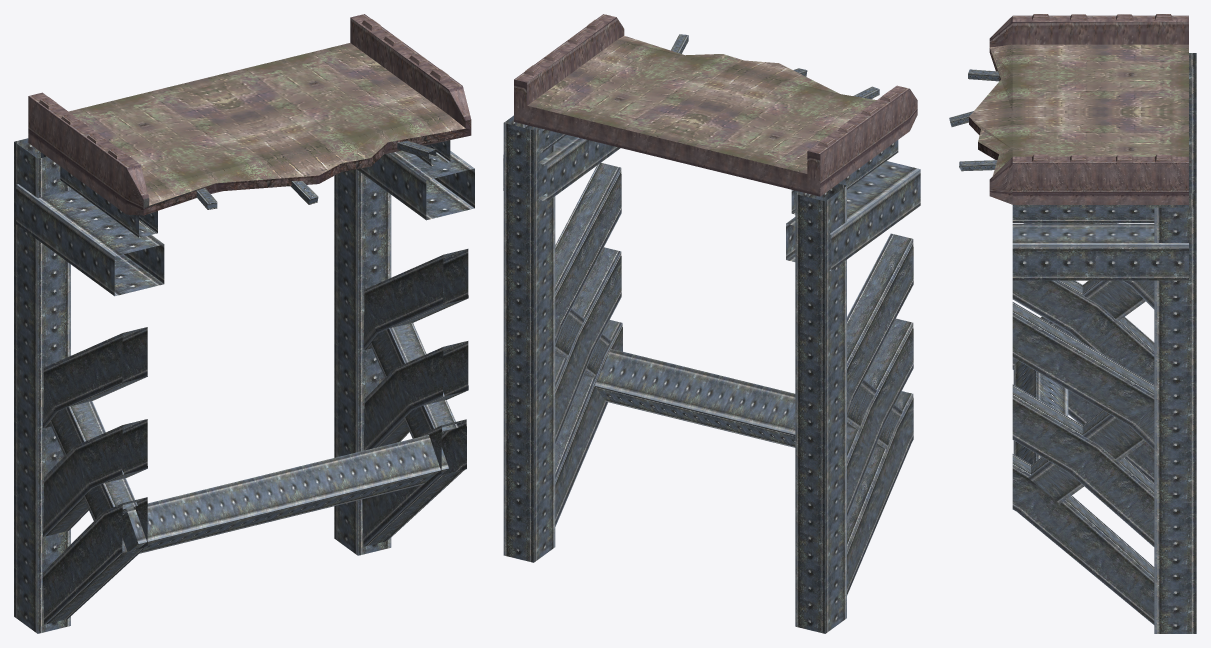
Rendered from C4SMCUSTBDG_START.obj.
3 views of the same model, side by side, from view 1: azimuth 30°, elevation 25°; view 2: azimuth 150°, elevation 25°; view 3: azimuth 270°, elevation 25° (orthographic). The views are drawn at different scales.
Visible parts, largest first — view 1: Node 0, Node 18, Node 11, Node 17, Node 14, Node 16, Node 15, Node 12, Node 13, Node 19, Node 8, Node 7; view 2: Node 0, Node 18, Node 12, Node 15, Node 11, Node 14, Node 16, Node 17, Node 19, Node 13, Node 7, Node 8; view 3: Node 0, Node 13, Node 16, Node 15, Node 19, Node 14, Node 7, Node 18, Node 8, Node 17, Node 9, Node 12 (+1 smaller).
Boxes of the visible parts, x1,y1,x2,y2 form: Node 0: [14, 14, 471, 633]; Node 18: [122, 435, 448, 553]; Node 11: [16, 184, 164, 296]; Node 17: [43, 497, 147, 624]; Node 14: [43, 419, 147, 536]; Node 16: [364, 341, 468, 450]; Node 15: [363, 249, 468, 349]; Node 12: [43, 327, 147, 428]; Node 13: [357, 150, 474, 220]; Node 19: [362, 419, 466, 546]; Node 8: [49, 401, 137, 520]; Node 7: [370, 323, 458, 438]; Node 0: [503, 14, 917, 633]; Node 18: [594, 349, 795, 447]; Node 12: [847, 233, 913, 416]; Node 15: [555, 163, 621, 344]; Node 11: [786, 161, 920, 270]; Node 14: [847, 318, 913, 516]; Node 16: [555, 247, 621, 444]; Node 17: [847, 391, 913, 595]; Node 19: [555, 320, 622, 526]; Node 13: [503, 135, 620, 201]; Node 7: [555, 308, 610, 377]; Node 8: [847, 380, 902, 449]; Node 0: [949, 15, 1196, 633]; Node 13: [1012, 223, 1188, 280]; Node 16: [1012, 384, 1154, 546]; Node 15: [1012, 302, 1154, 449]; Node 19: [1012, 454, 1154, 624]; Node 14: [1012, 280, 1154, 384]; Node 7: [1028, 410, 1145, 503]; Node 18: [1013, 361, 1068, 464]; Node 8: [1040, 280, 1145, 338]; Node 17: [1012, 357, 1154, 482]; Node 9: [1032, 154, 1172, 162]; Node 12: [1023, 223, 1154, 309].
Bounding box in the file's own units: 34.41 × 47.95 × 22.83.
17 materials, 17 textured.
